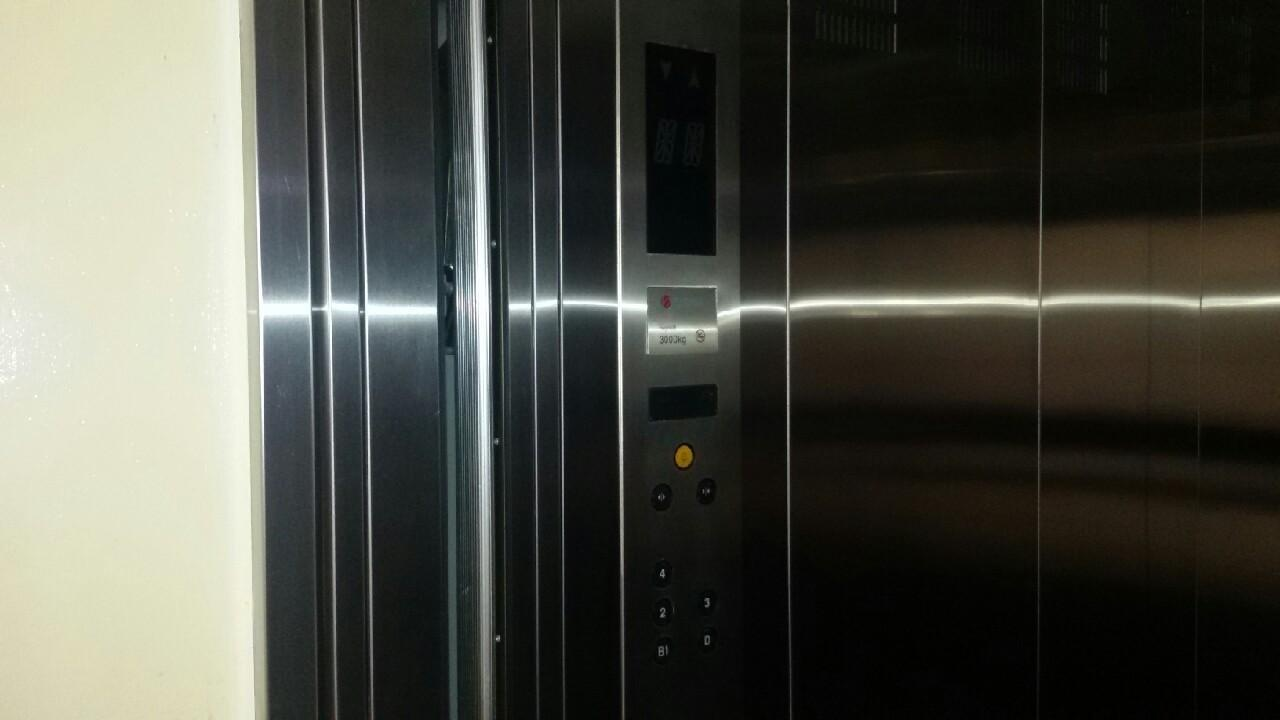0: (694, 623, 721, 655)
2: (650, 595, 675, 626)
3: (695, 588, 720, 616)
4: (650, 561, 676, 589)
B1: (652, 635, 676, 664)
alarm: (673, 444, 695, 470)
close: (693, 476, 719, 507)
led: (640, 34, 720, 261), (645, 380, 721, 423)
open: (648, 481, 675, 512)
